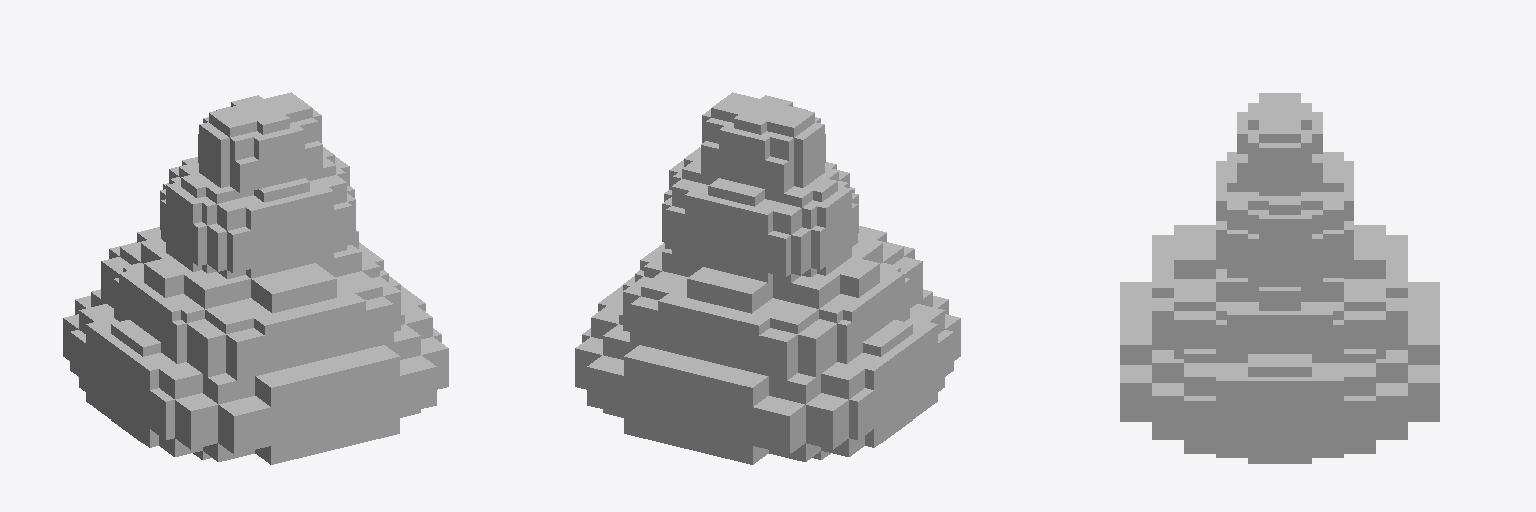
File: piedra grande.obj
3 views of the same model, side by side, from view 1: azimuth 30°, elevation 25°; view 2: azimuth 150°, elevation 25°; view 3: azimuth 270°, elevation 25° (orthographic).
Visible parts, largest first — view 1: object 1; view 2: object 1; view 3: object 1.
Boxes of the visible parts, x1=… form: object 1: x1=63, y1=92, x2=448, y2=464; object 1: x1=575, y1=92, x2=960, y2=464; object 1: x1=1120, y1=93, x2=1439, y2=463.
Bounding box in the file's own units: 3 × 3 × 3.